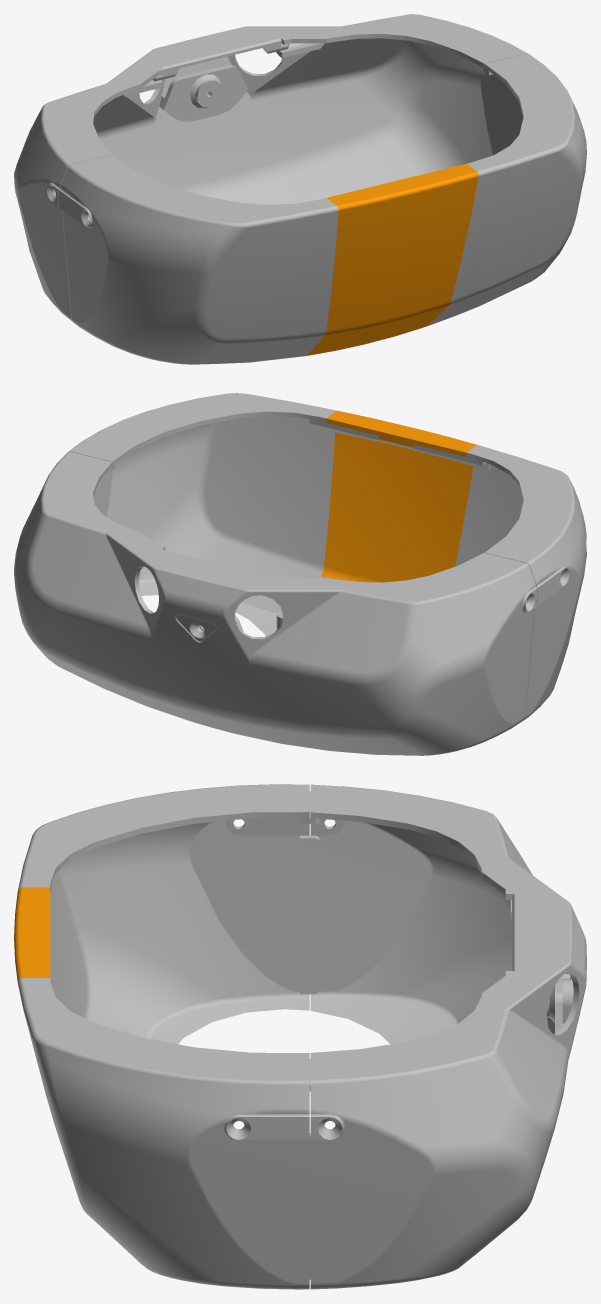
Rendered from Hip.obj.
3 views of the same model, one above another, from view 1: azimuth 30°, elevation 25°; view 2: azimuth 150°, elevation 25°; view 3: azimuth 270°, elevation 25° (orthographic). The views are drawn at different scales.
Bounding box in the file's own units: 0.282 × 0.108 × 0.2203.
